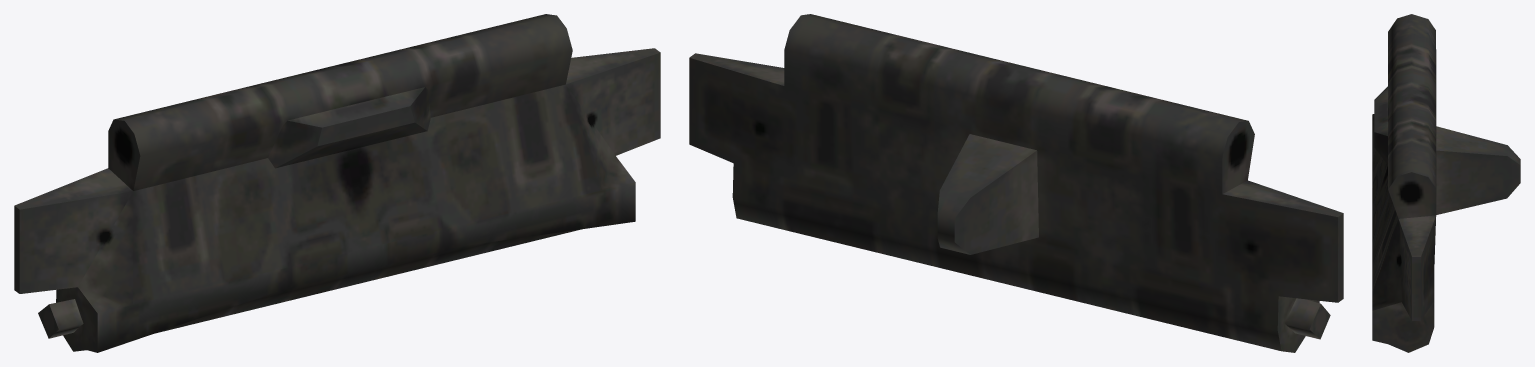
3 renders of one model, left to right at view 1: azimuth 30°, elevation 25°; view 2: azimuth 150°, elevation 25°; view 3: azimuth 270°, elevation 25°, orthographic. The views are drawn at different scales.
Visible parts, largest first — view 1: set_0_group_0; view 2: set_0_group_0; view 3: set_0_group_0.
Part boxes in pixels (x1,y1,x2,y2): set_0_group_0: (14,14,660,352); set_0_group_0: (689,14,1343,352); set_0_group_0: (1372,14,1520,352).
Size of the model in its own units: 0.7217 by 0.233 by 0.1938.
Materials: 1 (1 with a texture image).
